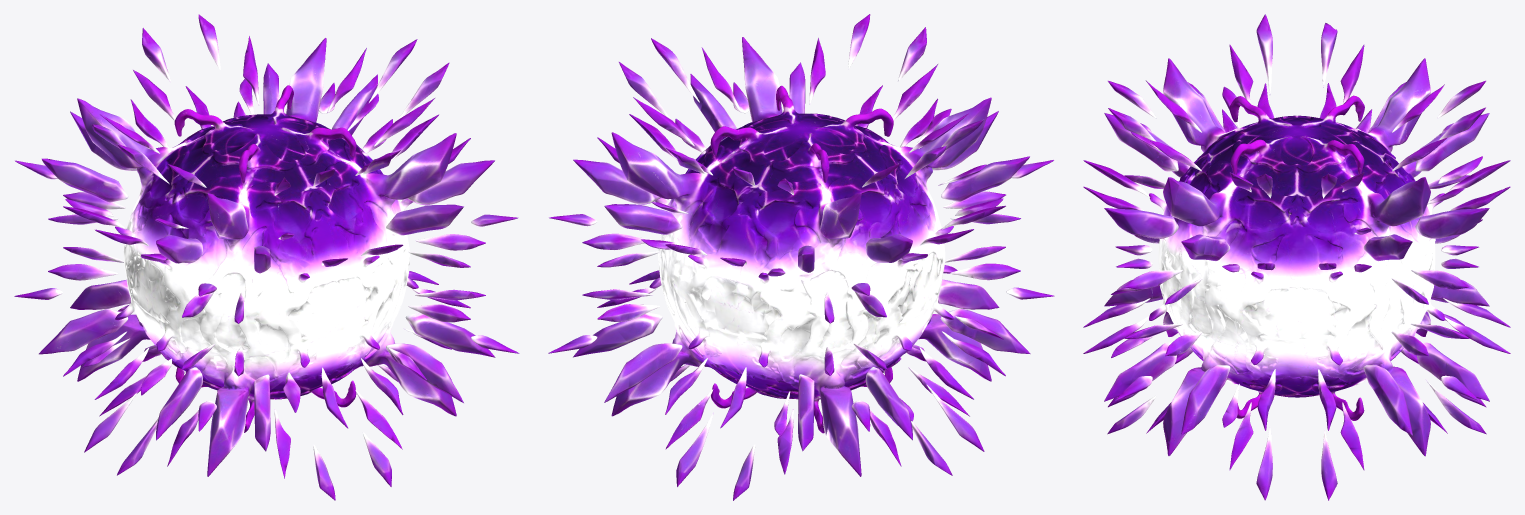
File: oracle-glow.glb
3 renders of one model, left to right at view 1: azimuth 30°, elevation 25°; view 2: azimuth 150°, elevation 25°; view 3: azimuth 270°, elevation 25°, orthographic.
Bounding box in the file's own units: 1.9 × 1.6 × 1.9.
1 material, 1 textured.
